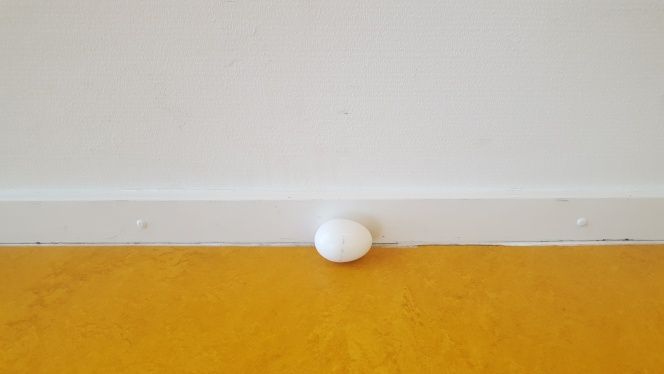egg: (314, 216, 374, 268)
